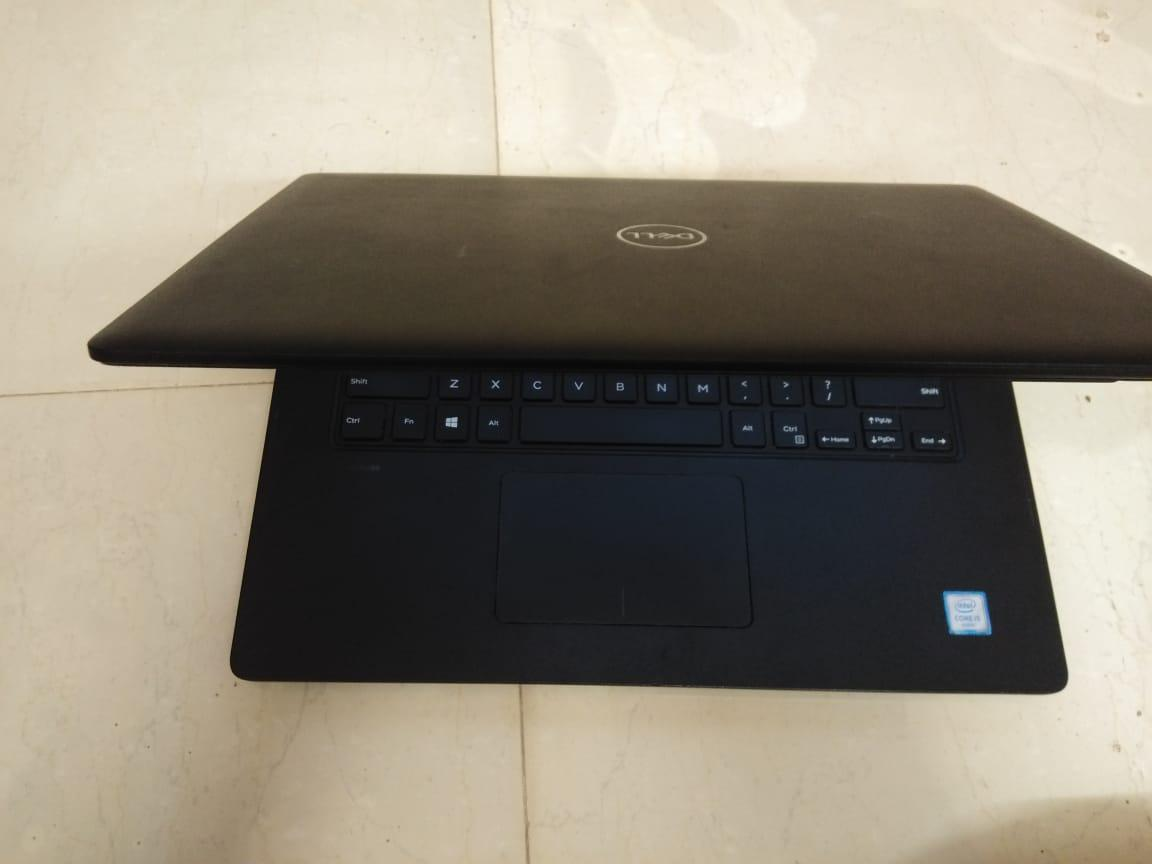laptop: (72, 157, 1152, 723)
